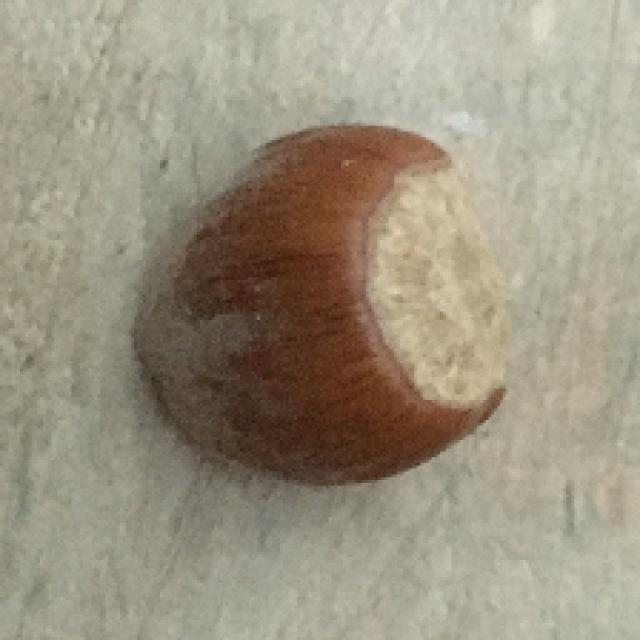qualityHazelnut: (123, 124, 511, 478)
